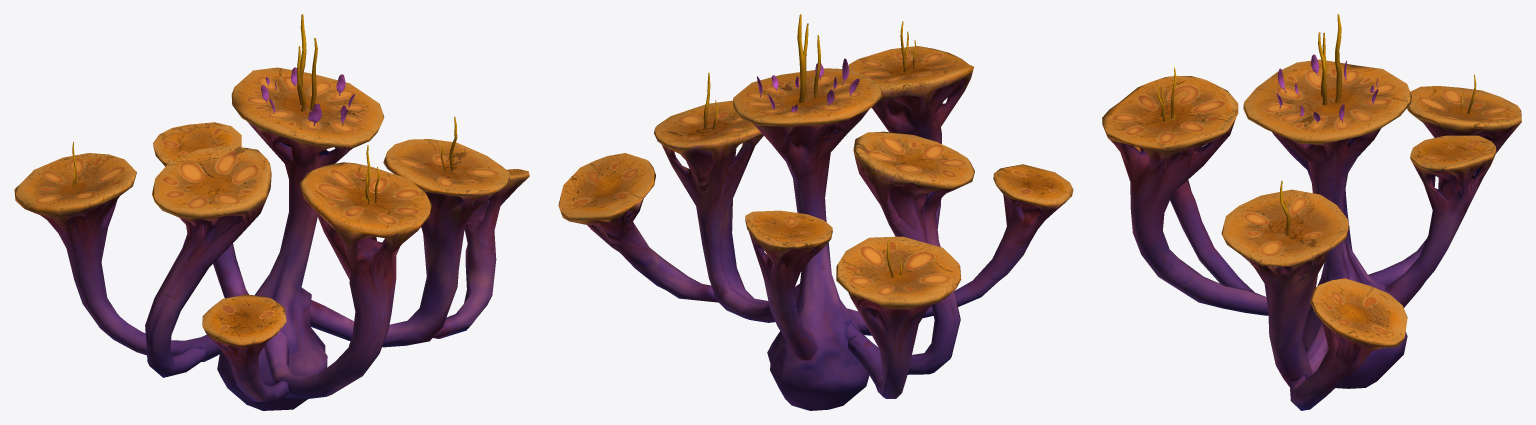
Rendered from VegetationSmall07.fbx.
3 views of the same model, side by side, from view 1: azimuth 30°, elevation 25°; view 2: azimuth 150°, elevation 25°; view 3: azimuth 270°, elevation 25° (orthographic). The views are drawn at different scales.
Parts seen in each view (by area): view 1: VegetationSmall07_LOD00; view 2: VegetationSmall07_LOD00; view 3: VegetationSmall07_LOD00.
Boxes of the visible parts, left/top/right/bottom form: VegetationSmall07_LOD00: left=14, top=14, right=529, bottom=410; VegetationSmall07_LOD00: left=558, top=14, right=1073, bottom=410; VegetationSmall07_LOD00: left=1102, top=14, right=1521, bottom=410.
Size of what is drawn, in the model's own units: 190 by 156 by 159.
